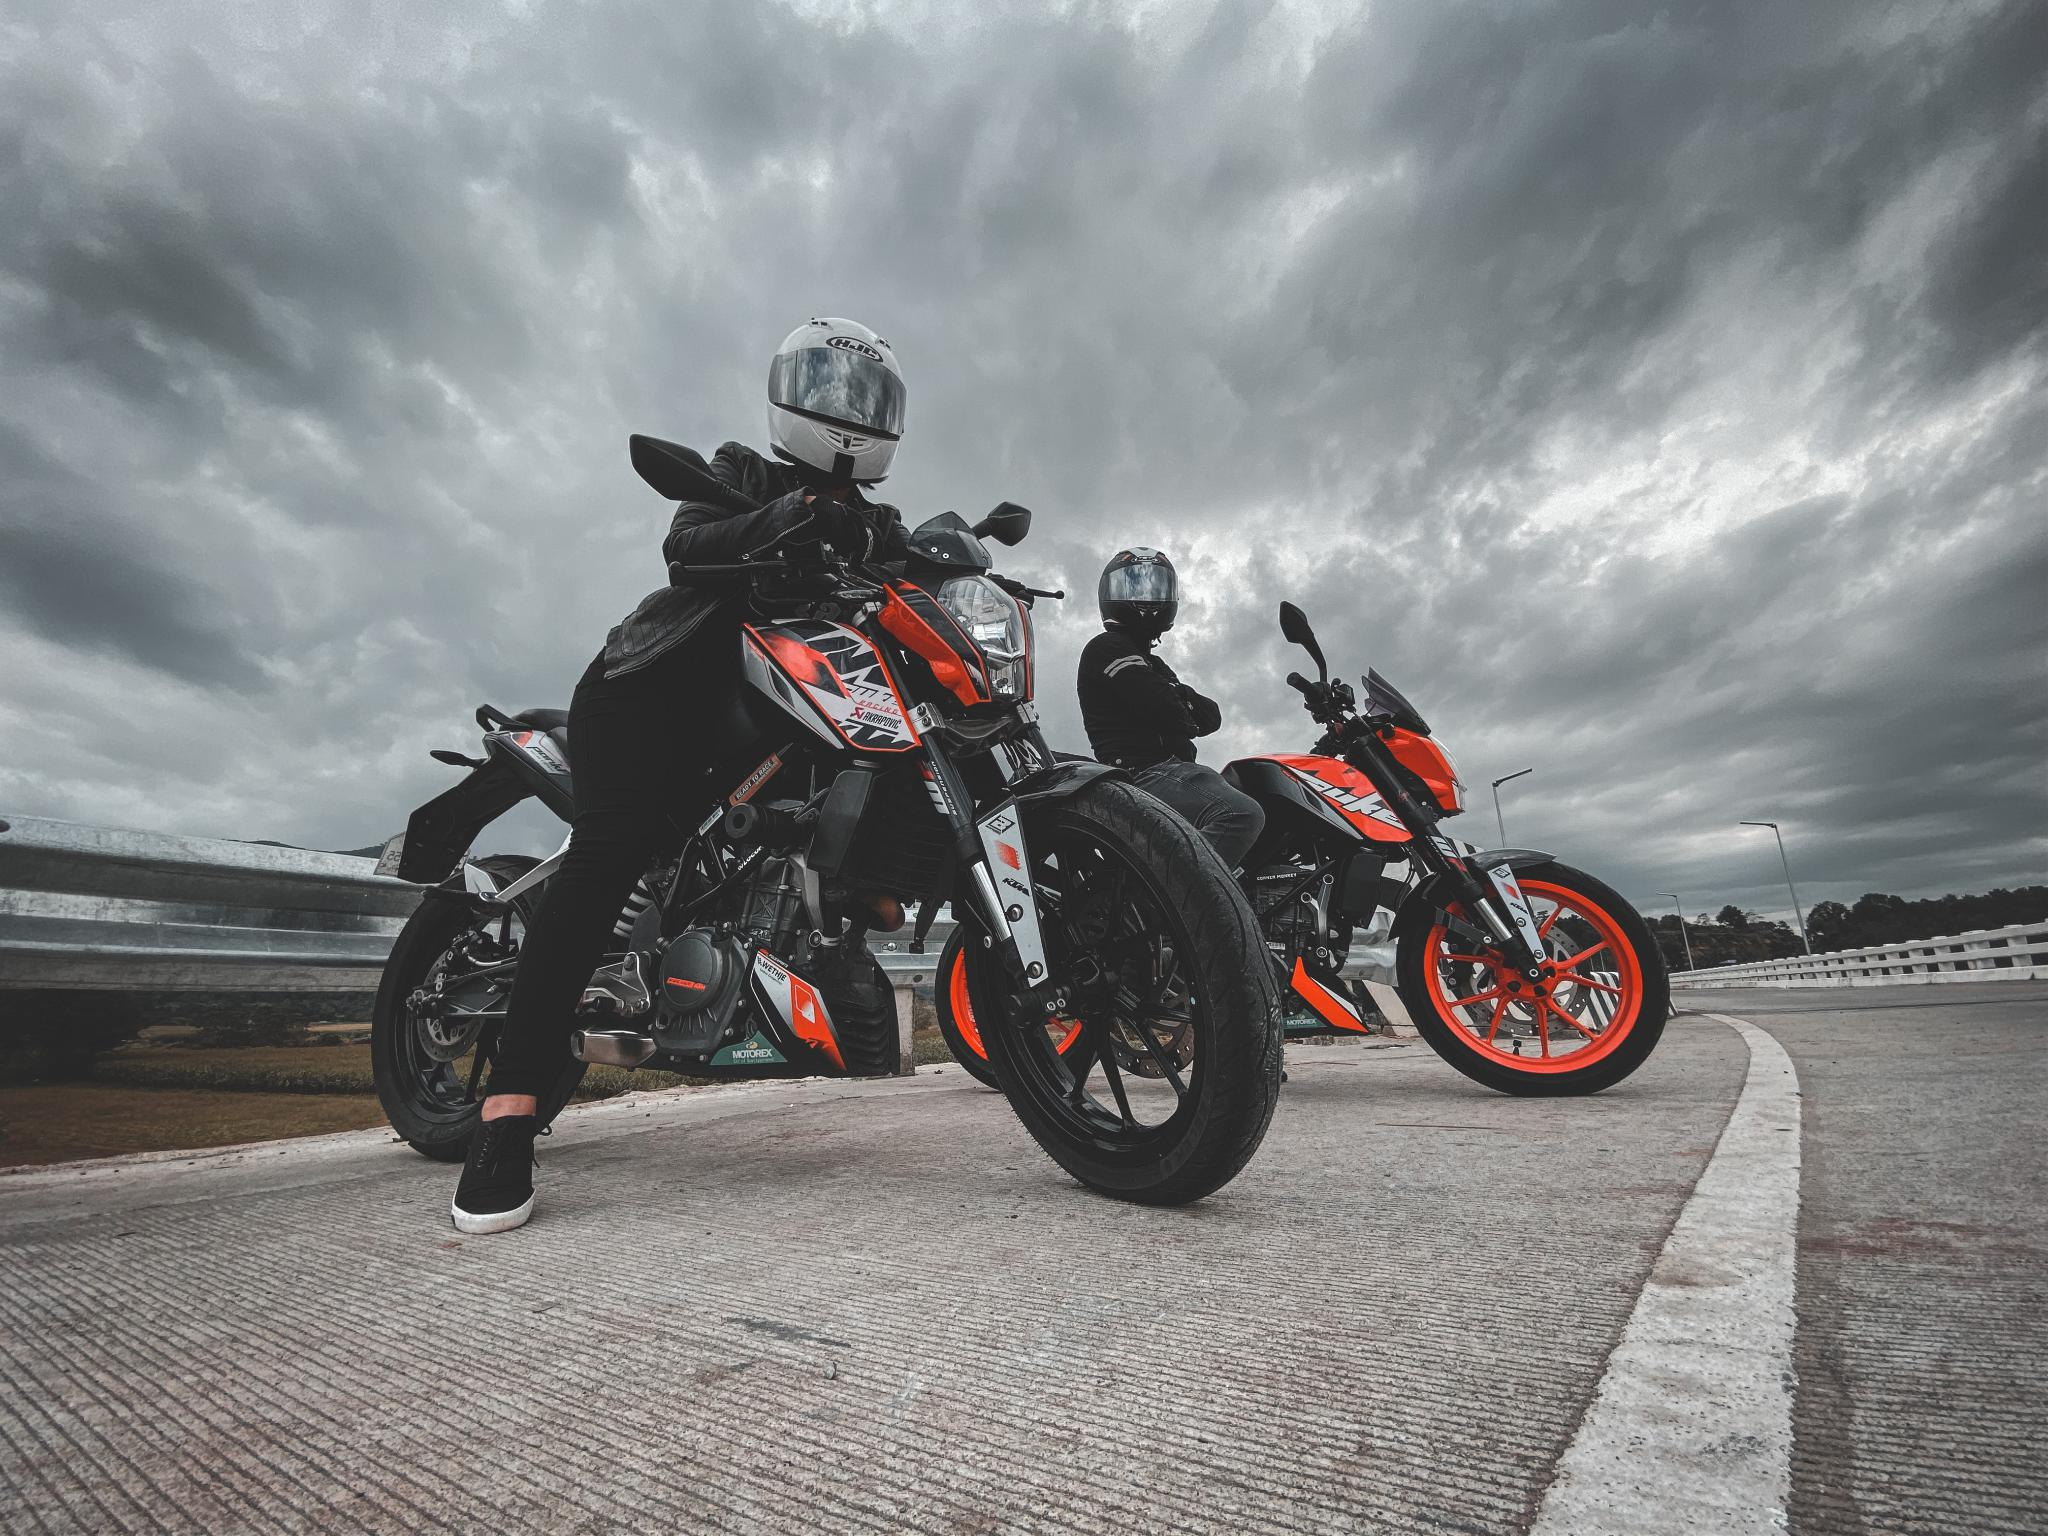motorcycle: (343, 487, 1306, 1234), (942, 636, 1682, 1104)
